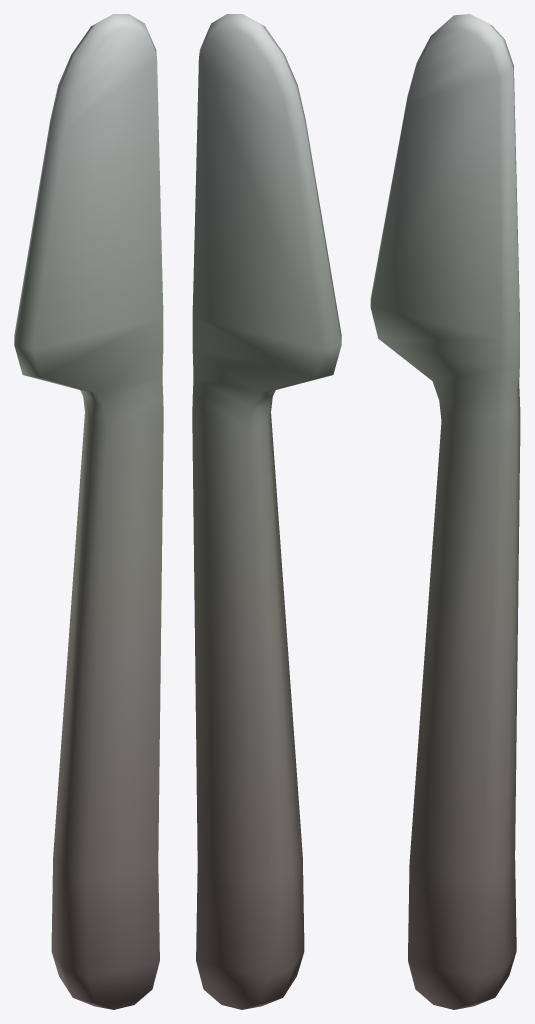
The model's file is Knife_02.glb.
3 views of the same model, side by side, from view 1: azimuth 30°, elevation 25°; view 2: azimuth 150°, elevation 25°; view 3: azimuth 330°, elevation 25° (orthographic).
Parts seen in each view (by area): view 1: Knife_02; view 2: Knife_02; view 3: Knife_02.
Boxes of the visible parts, bbox=[...] form: Knife_02: bbox=[14, 14, 163, 1009]; Knife_02: bbox=[192, 14, 341, 1009]; Knife_02: bbox=[370, 14, 520, 1009].
Size of the model in its own units: 0.0856 by 0.5431 by 0.0367.
Materials: 1 (1 with a texture image).
